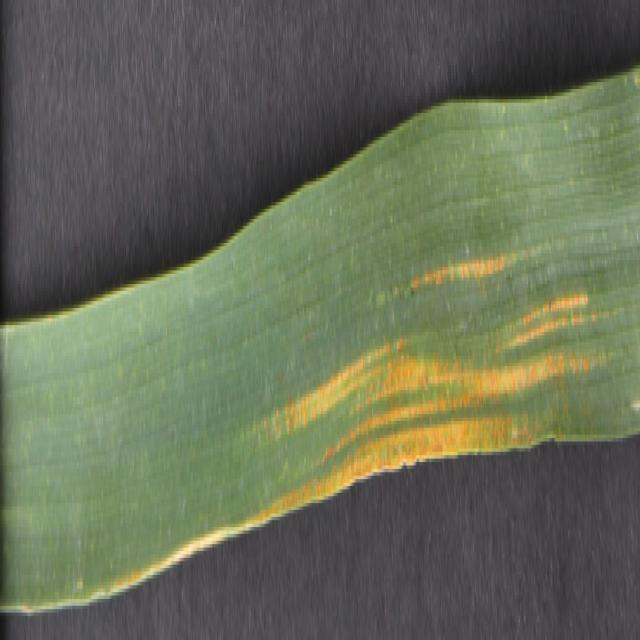leaf rust: (259, 222, 605, 514)
